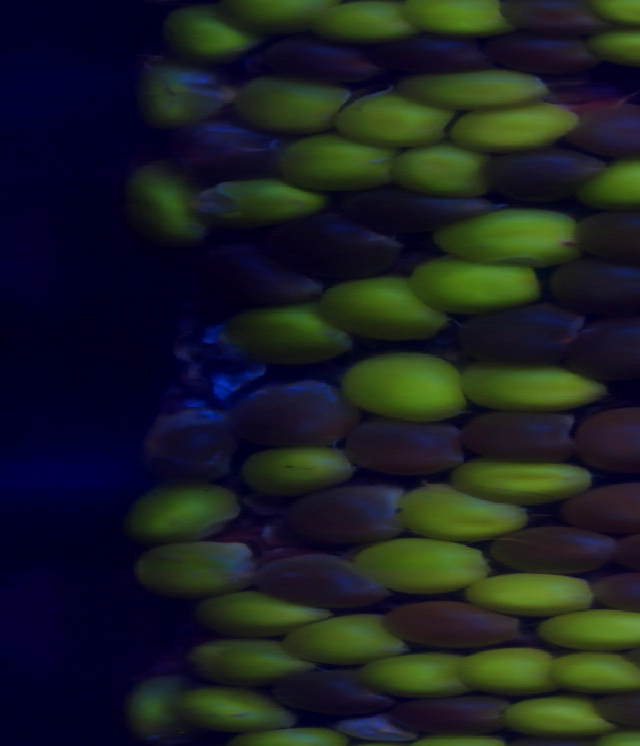fluorescent: (438, 209, 581, 275), (345, 357, 475, 429), (455, 355, 604, 413), (125, 167, 216, 252), (399, 484, 535, 540), (322, 275, 443, 336), (468, 561, 594, 618), (386, 139, 498, 202), (331, 86, 451, 144), (278, 138, 398, 196), (350, 541, 485, 591), (190, 170, 322, 221), (280, 614, 414, 664), (407, 258, 549, 305), (126, 541, 271, 587), (458, 454, 594, 503), (234, 75, 345, 135), (132, 60, 236, 121), (223, 309, 348, 359), (457, 646, 562, 702), (183, 633, 315, 677), (451, 106, 583, 147), (540, 644, 640, 698), (308, 1, 427, 46), (124, 489, 242, 534), (399, 71, 549, 106), (360, 654, 476, 699), (171, 684, 300, 724), (121, 680, 207, 740), (161, 9, 250, 57), (233, 450, 355, 485), (195, 592, 324, 624), (500, 698, 617, 733), (538, 610, 640, 649), (407, 1, 527, 34), (574, 158, 640, 211), (224, 1, 336, 31), (588, 29, 640, 67), (594, 1, 640, 29)
nonfluorescent: (264, 217, 402, 282), (256, 554, 392, 614), (452, 302, 580, 365), (199, 241, 321, 306), (283, 481, 409, 542), (233, 386, 354, 449), (341, 186, 505, 231), (381, 599, 528, 649), (355, 420, 467, 479), (464, 411, 590, 460), (140, 418, 240, 479), (490, 151, 611, 201), (276, 664, 391, 715), (486, 528, 628, 569), (548, 254, 640, 315), (171, 124, 281, 172), (362, 35, 500, 72), (565, 315, 640, 381), (261, 39, 365, 84), (487, 31, 598, 71), (390, 697, 523, 729), (498, 1, 620, 34), (573, 412, 640, 471), (566, 106, 640, 157), (566, 479, 640, 529), (571, 213, 640, 261), (587, 567, 640, 612), (596, 688, 640, 726)
